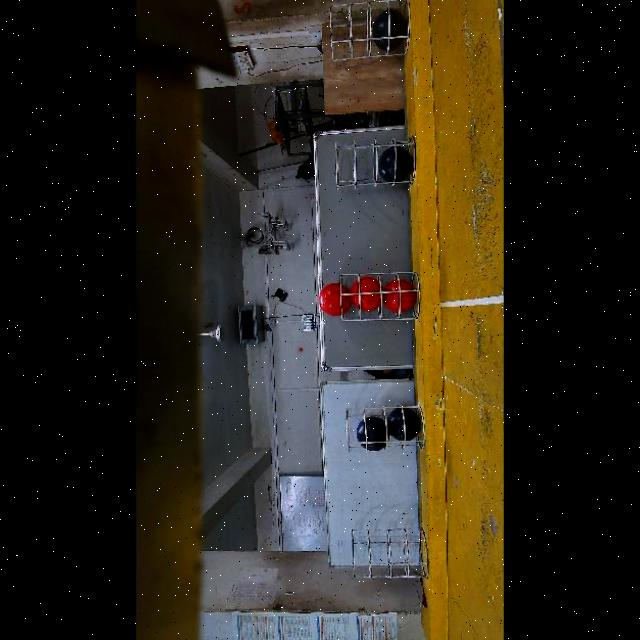P: (371, 9, 407, 51), (377, 147, 413, 181), (356, 417, 389, 450), (387, 408, 420, 440)
R: (350, 277, 383, 311), (382, 280, 415, 312), (319, 283, 351, 316)
S: (329, 131, 413, 191), (328, 0, 404, 64), (336, 269, 420, 325), (350, 523, 430, 581), (342, 398, 414, 452)
